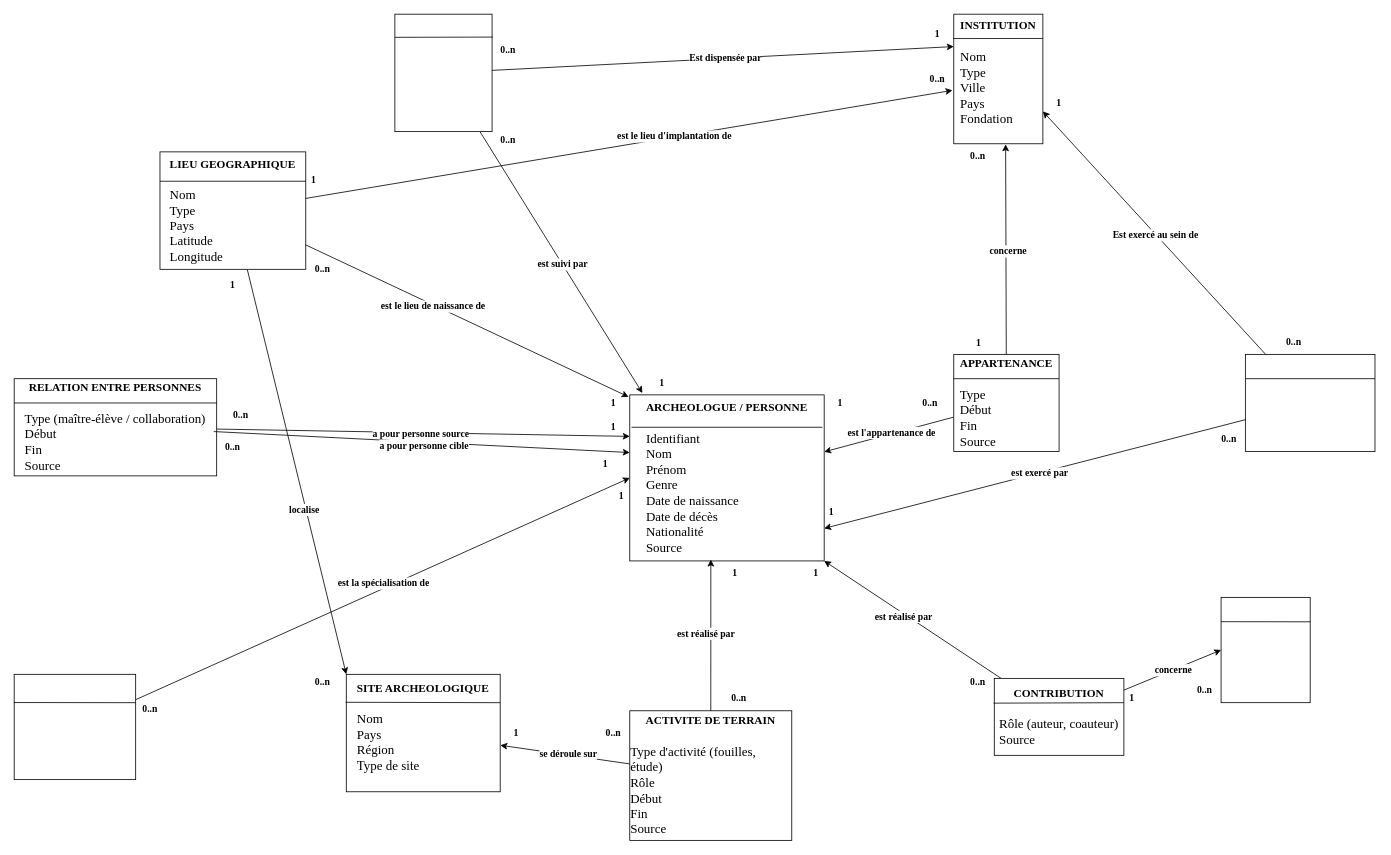
The diagram is 1391 pixels wide and 855 high, and some of its shapes have lost their labels. Each missing label, with the centre of its shape:
FORMATION Discipline Diplôme Début Fin Source: the point at 443,72
POSTE / CARRIERE Fonction Début Fin Source: the point at 1310,403
PUBLICATION Titre Année Type Référence: the point at 1265,650
SPECIALISATION Domaine Aire culturelle Période étudiée: the point at 74,727
